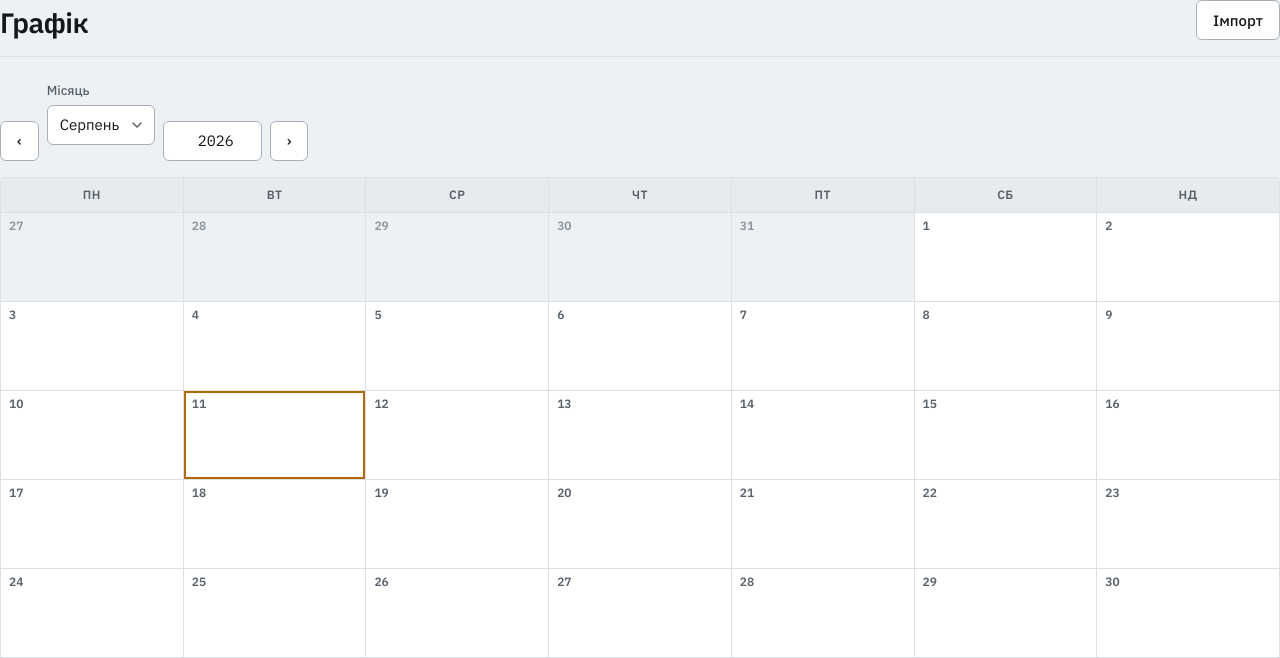
ScheduleRoute › opens the import as a modal on this page, not a separate destination
Click the button "Імпорт": (1238, 20) [1196,0,1279,40]
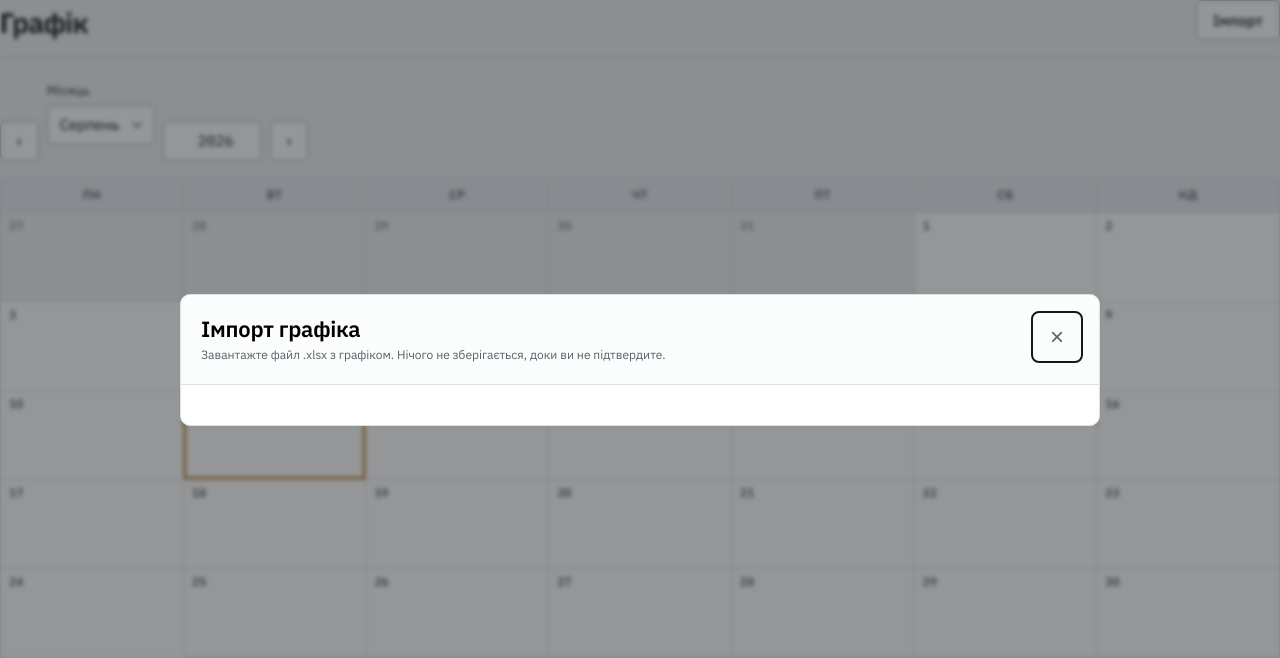
Check: the dialog is shown, box [180,294,1100,426]
